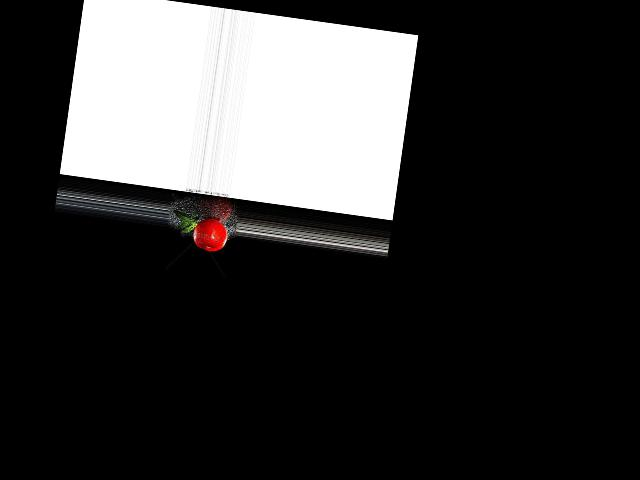tomato: (191, 217, 229, 253)
